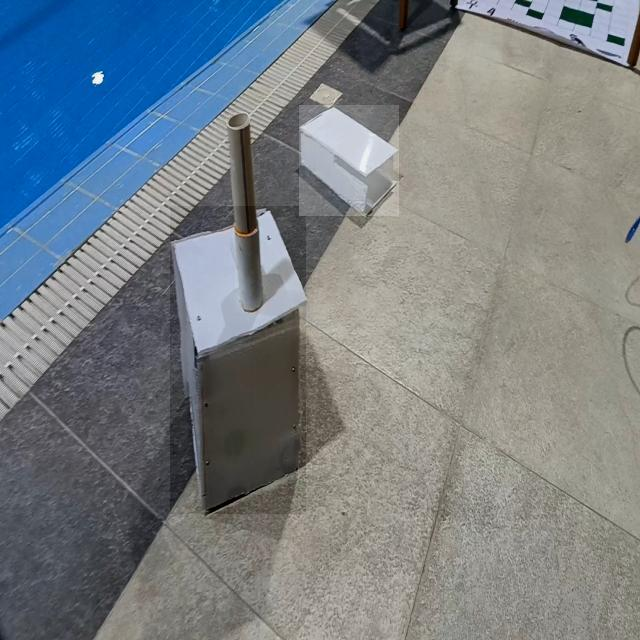Cube: (170, 206, 306, 514)
Cuboid: (300, 105, 400, 216)
